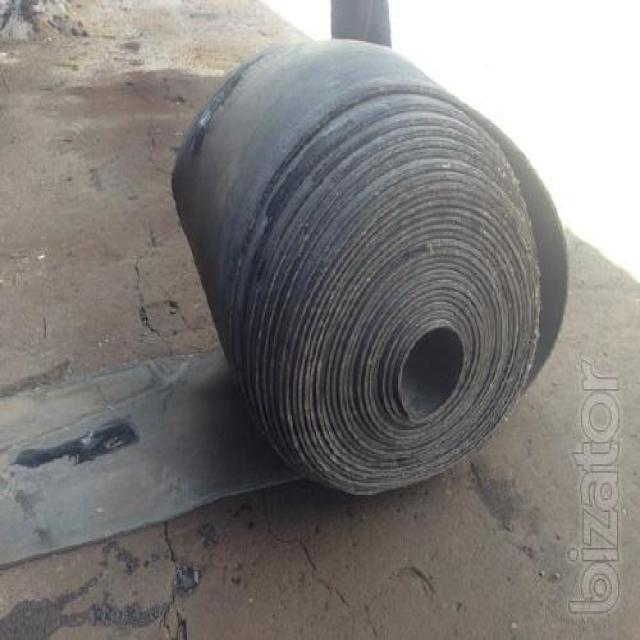conveyor: (24, 19, 580, 578)
